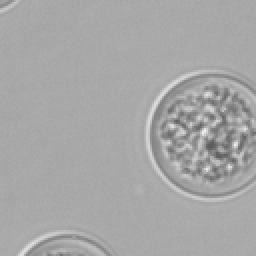picoshell: (146, 70, 254, 200), (18, 230, 114, 254), (0, 0, 18, 12)
